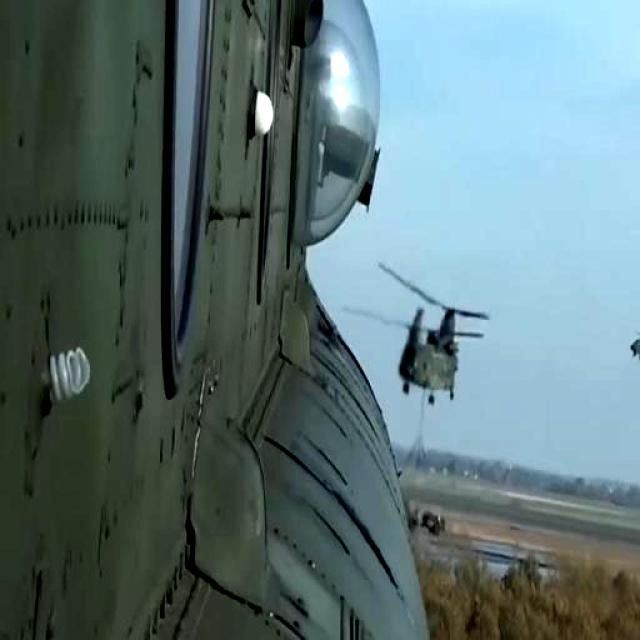drone: (399, 255, 474, 412), (624, 319, 640, 370)
